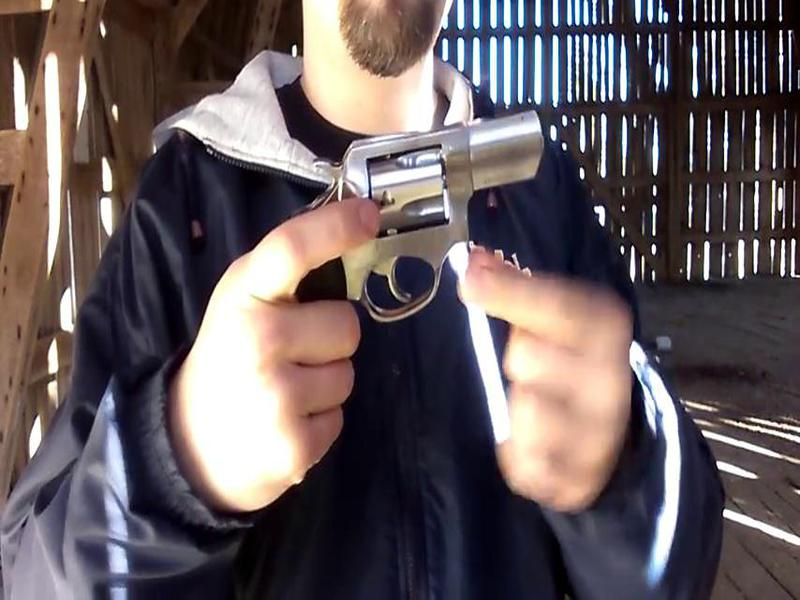Revolver: (253, 106, 574, 388)
